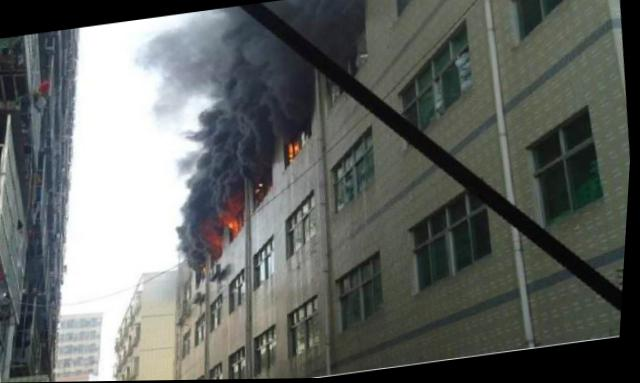fire: (227, 215, 242, 233), (287, 141, 300, 159)
smoke: (152, 8, 309, 133), (162, 121, 269, 178), (293, 0, 375, 62), (166, 172, 242, 218), (168, 208, 218, 243)
